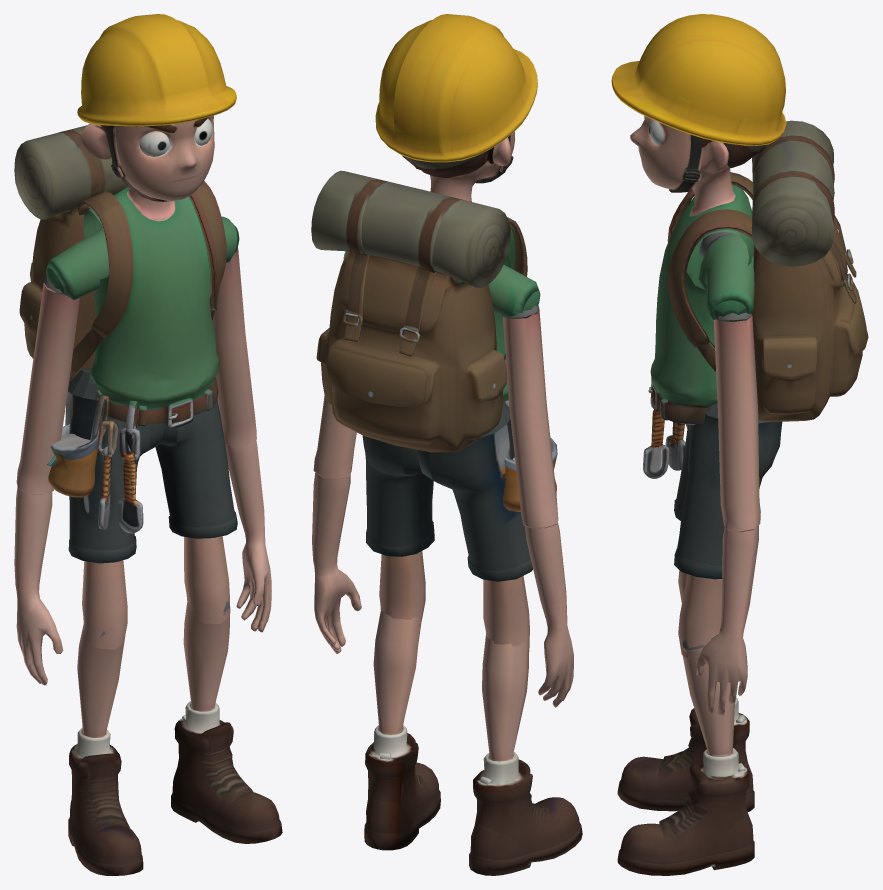
The model's file is sherpa2.glb.
The picture shows the model from 3 angles, left to right: view 1: azimuth 30°, elevation 25°; view 2: azimuth 150°, elevation 25°; view 3: azimuth 270°, elevation 25°; orthographic projection.
Visible parts, largest first — view 1: pieza_torso, pieza_cabeza, pieza_pantorrilla_der, pieza_muslo_der, pieza_pantorrilla_izq, mochila, pieza_muslo_izq, pieza_brazo_sup_izq, pieza_antebrazo_izq, pieza_brazo_sup_der, pieza_antebrazo_der, tirante_izq; view 2: mochila, pieza_cabeza, pieza_pantorrilla_izq, pieza_muslo_izq, pieza_pantorrilla_der, pieza_muslo_der, pieza_brazo_sup_izq, pieza_antebrazo_der, pieza_antebrazo_izq, pieza_brazo_sup_der, pieza_torso, tirante_izq; view 3: mochila, pieza_cabeza, pieza_torso, pieza_pantorrilla_der, pieza_muslo_der, pieza_brazo_sup_der, pieza_antebrazo_der, pieza_pantorrilla_izq, tirante_der, pieza_muslo_izq.
Part boxes in pixels (bbox=[...]): pieza_torso: bbox=[47, 181, 226, 533]; pieza_cabeza: bbox=[77, 14, 236, 221]; pieza_pantorrilla_der: bbox=[171, 600, 282, 843]; pieza_muslo_der: bbox=[155, 400, 237, 623]; pieza_pantorrilla_izq: bbox=[68, 625, 143, 875]; mochila: bbox=[14, 125, 128, 385]; pieza_muslo_izq: bbox=[65, 368, 163, 649]; pieza_brazo_sup_izq: bbox=[16, 276, 79, 494]; pieza_antebrazo_izq: bbox=[14, 486, 63, 685]; pieza_brazo_sup_der: bbox=[209, 247, 256, 446]; pieza_antebrazo_der: bbox=[225, 440, 271, 632]; tirante_izq: bbox=[46, 227, 109, 300]; mochila: bbox=[311, 170, 510, 452]; pieza_cabeza: bbox=[375, 14, 537, 201]; pieza_pantorrilla_izq: bbox=[469, 635, 582, 875]; pieza_muslo_izq: bbox=[417, 400, 532, 650]; pieza_pantorrilla_der: bbox=[364, 611, 440, 850]; pieza_muslo_der: bbox=[362, 435, 434, 624]; pieza_brazo_sup_izq: bbox=[503, 305, 558, 528]; pieza_antebrazo_der: bbox=[312, 472, 361, 653]; pieza_antebrazo_izq: bbox=[525, 523, 573, 707]; pieza_brazo_sup_der: bbox=[313, 396, 356, 479]; pieza_torso: bbox=[494, 217, 557, 511]; tirante_izq: bbox=[488, 265, 540, 318]; mochila: bbox=[751, 120, 868, 421]; pieza_cabeza: bbox=[611, 14, 786, 216]; pieza_torso: bbox=[643, 172, 754, 478]; pieza_pantorrilla_der: bbox=[617, 639, 754, 875]; pieza_muslo_der: bbox=[674, 403, 782, 659]; pieza_brazo_sup_der: bbox=[713, 312, 760, 532]; pieza_antebrazo_der: bbox=[696, 525, 758, 715]; pieza_pantorrilla_izq: bbox=[617, 697, 754, 811]; tirante_der: bbox=[698, 233, 754, 321]; pieza_muslo_izq: bbox=[674, 424, 689, 602].
Size of the model in its own units: 0.591 by 1.85 by 0.5327.
2 materials, 1 textured.
